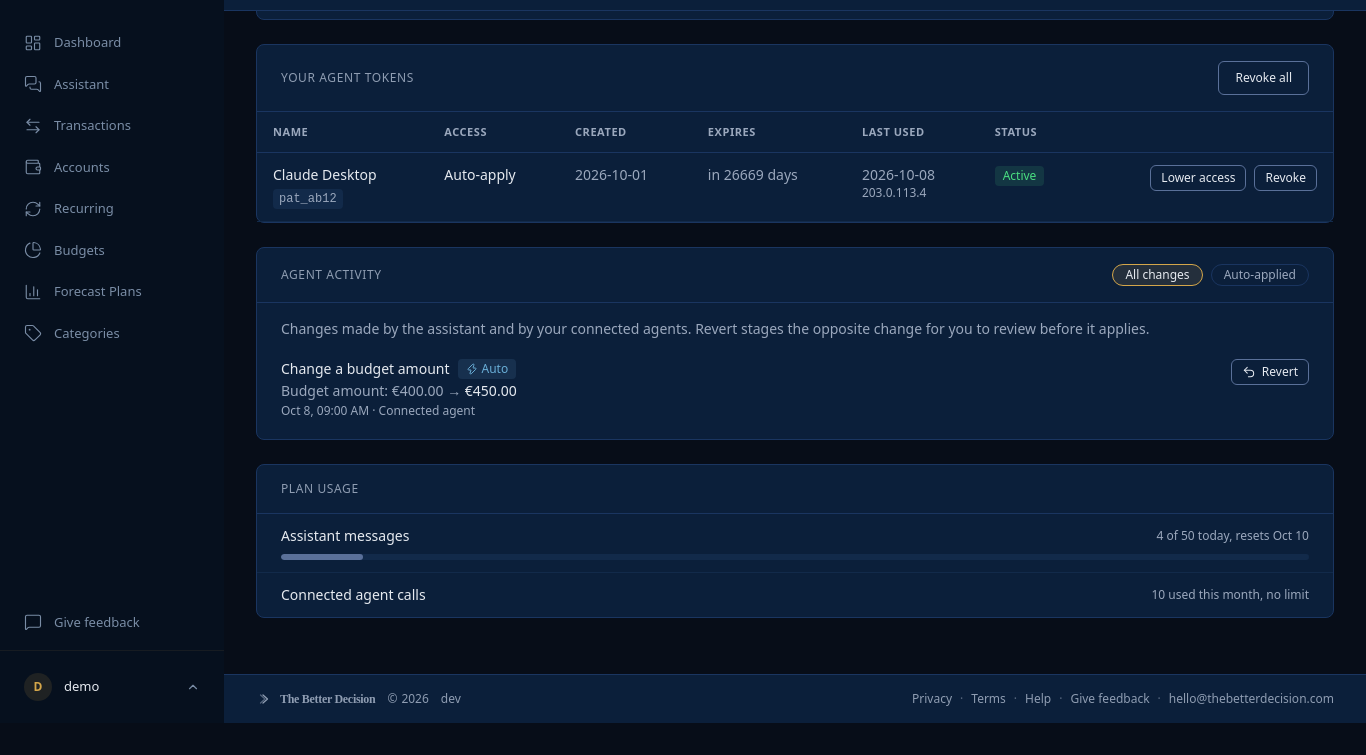
Test: activity › F-581-DRIFT: drift shows before the revert applies, and applying posts the staged id
This screenshot has width=1366, height=755.
(page scrolled)
Click the button with aria-label "Revert: ": (1270, 372) [1231,359,1309,385]
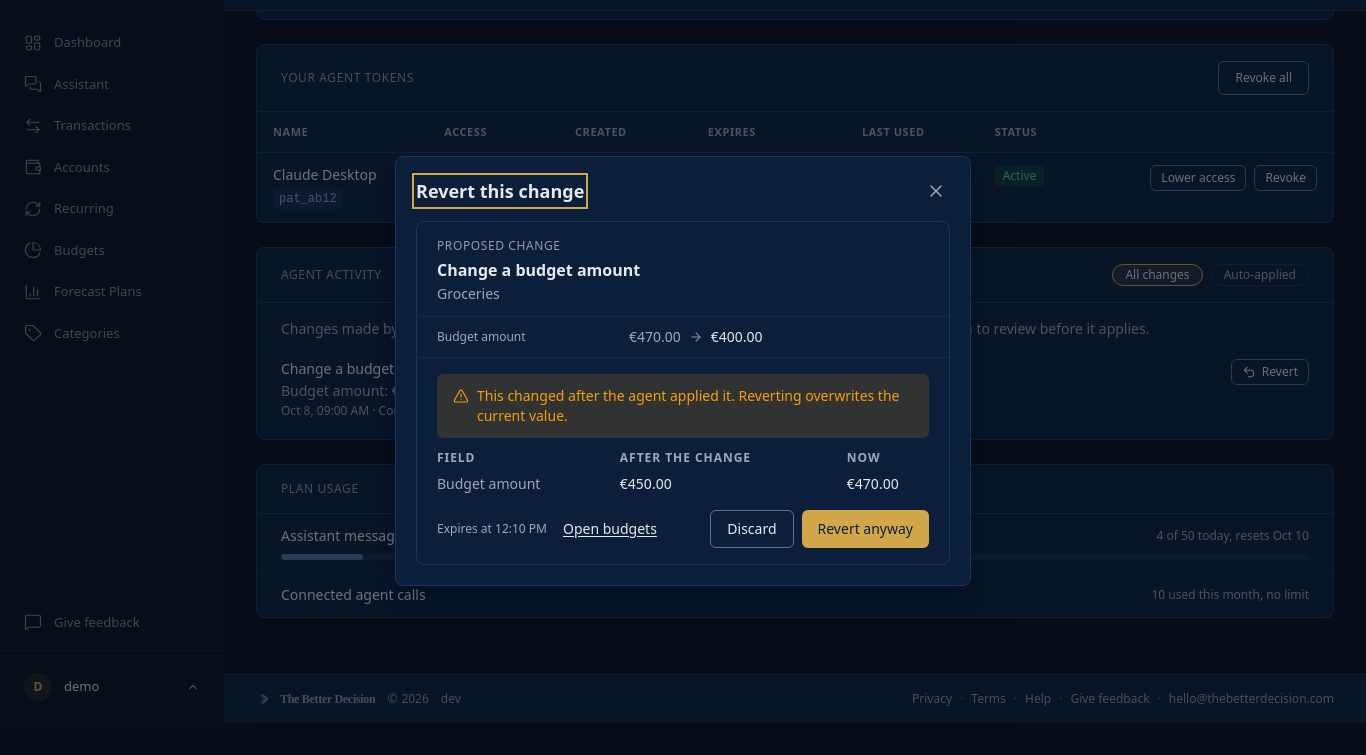
Now the cell "Budget amount" is shown, box [437,470,620,498]
Now the element with test id "drift" shows "€450.00", box [620,474,672,493]
Now the element with test id "drift" shows "€470.00", box [847,474,899,493]
Click the button "Revert anyway": (865, 529) [802,510,929,548]
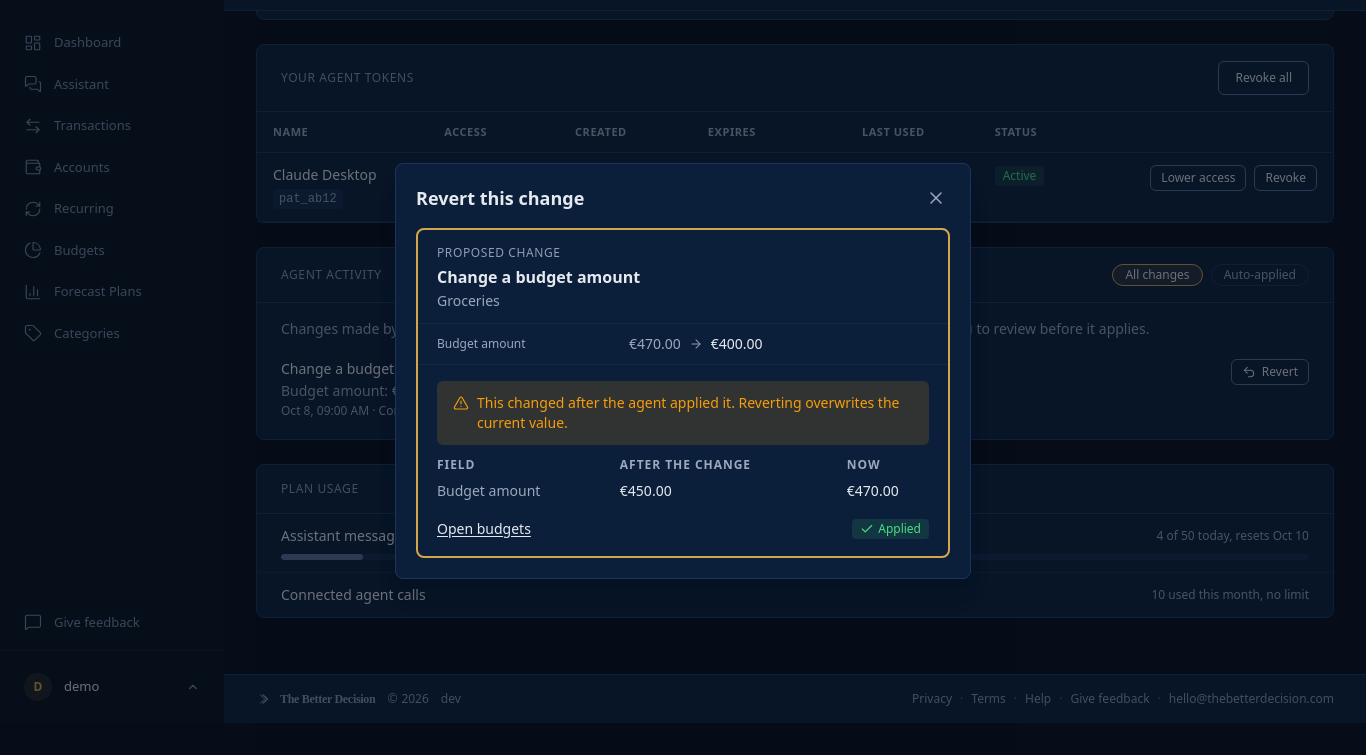
Now the text "Applied" is shown, box [852,519,929,539]
